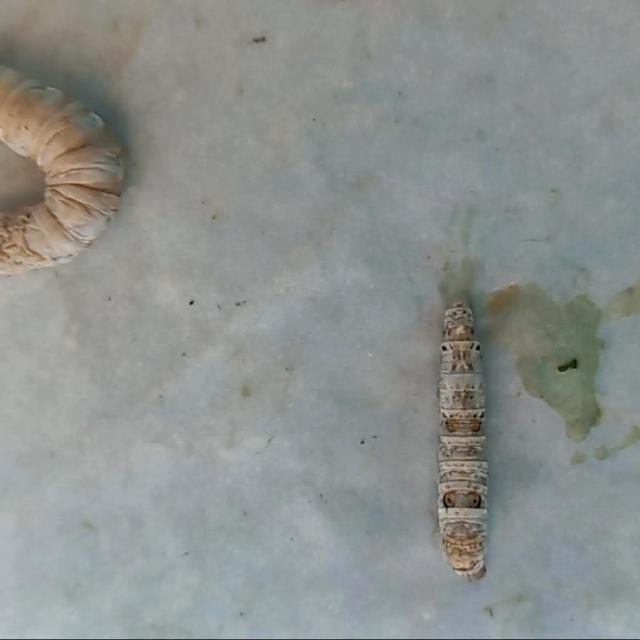Grasserie: (386, 278, 588, 600)
